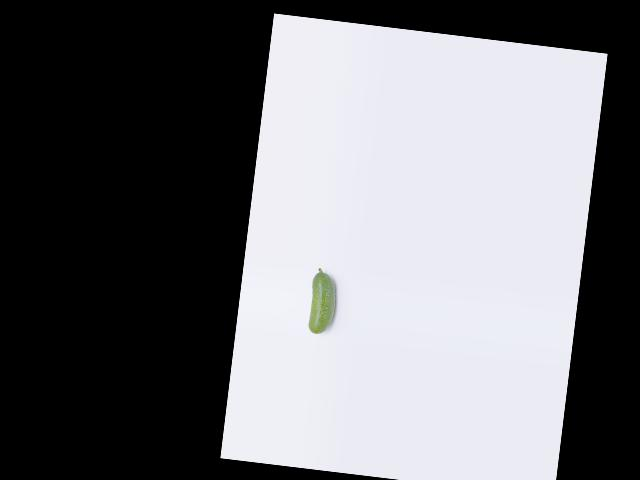cucumber: (306, 267, 339, 336)
